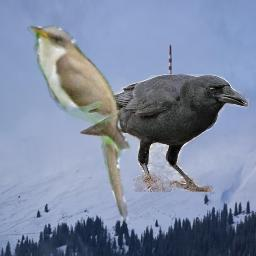Crow: (79, 74, 249, 192)
Cuckoo: (23, 20, 133, 225)
